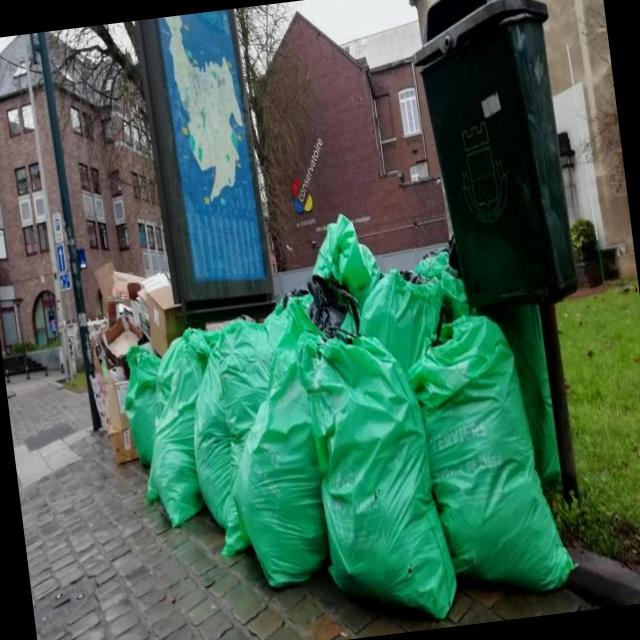high trash: (97, 216, 573, 618)
